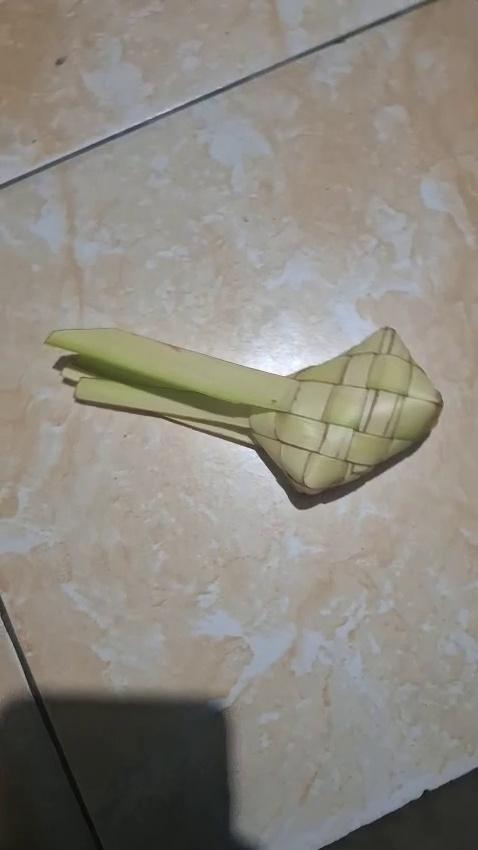Tipat Bantal: (59, 323, 452, 518)
